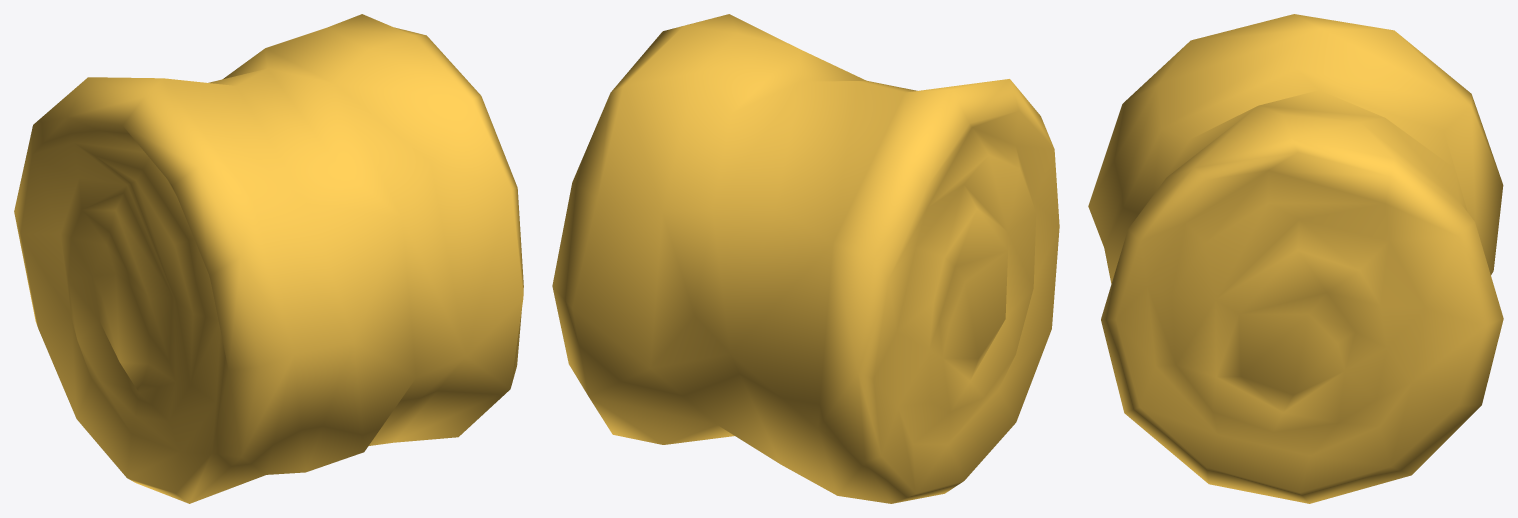
Rendered from hay_001.glb.
3 views of the same model, side by side, from view 1: azimuth 30°, elevation 25°; view 2: azimuth 150°, elevation 25°; view 3: azimuth 270°, elevation 25° (orthographic). The views are drawn at different scales.
Visible parts, largest first — view 1: hay_001; view 2: hay_001; view 3: hay_001.
Boxes of the visible parts, x1,y1,x2,y2 form: hay_001: (14, 14, 523, 503); hay_001: (552, 14, 1059, 503); hay_001: (1088, 14, 1503, 503).
Size of the model in its own units: 1.74 by 1.95 by 2.01.
1 material, 1 textured.
